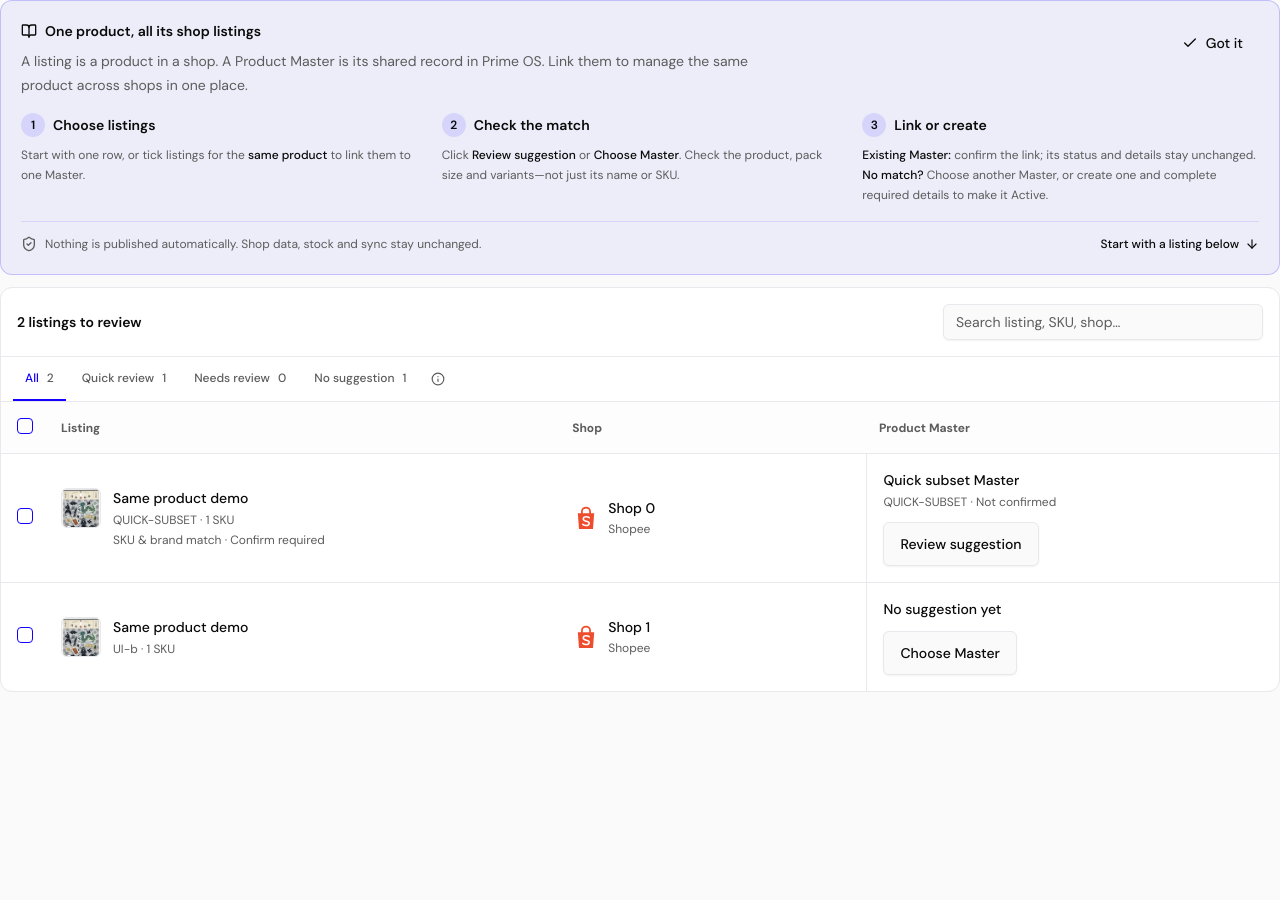
Test: Listing review drawer › keeps eligible and unmatched listings together in the explicit selection without silently confirming a subset
The width and height of the screenshot is (1280, 900).
Click the checkbox named "Select visible shop listings".
click(25, 426)  # box left=17, top=418, right=33, bottom=434
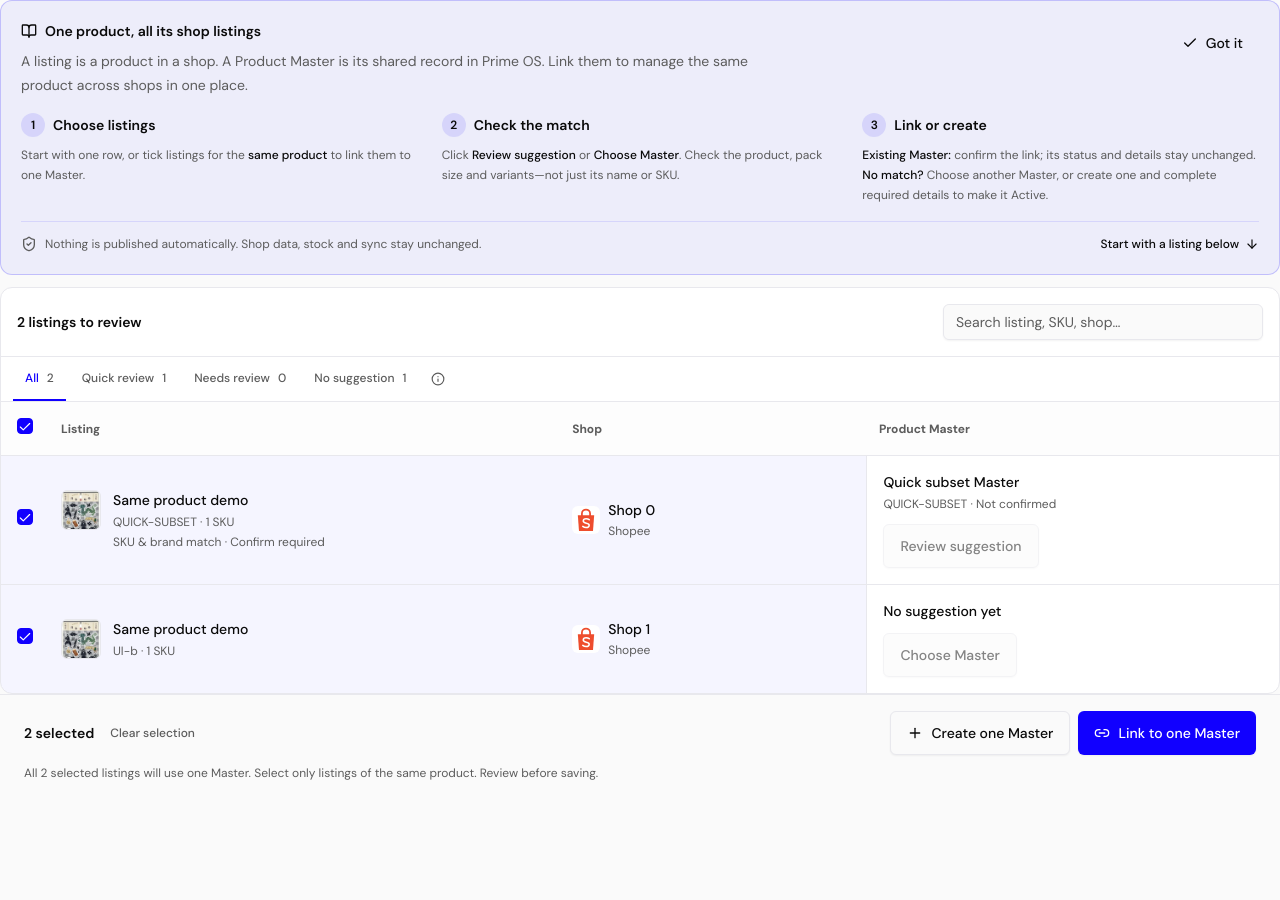
Click the button "Link to one Master".
click(1167, 733)  # box left=1078, top=711, right=1256, bottom=755
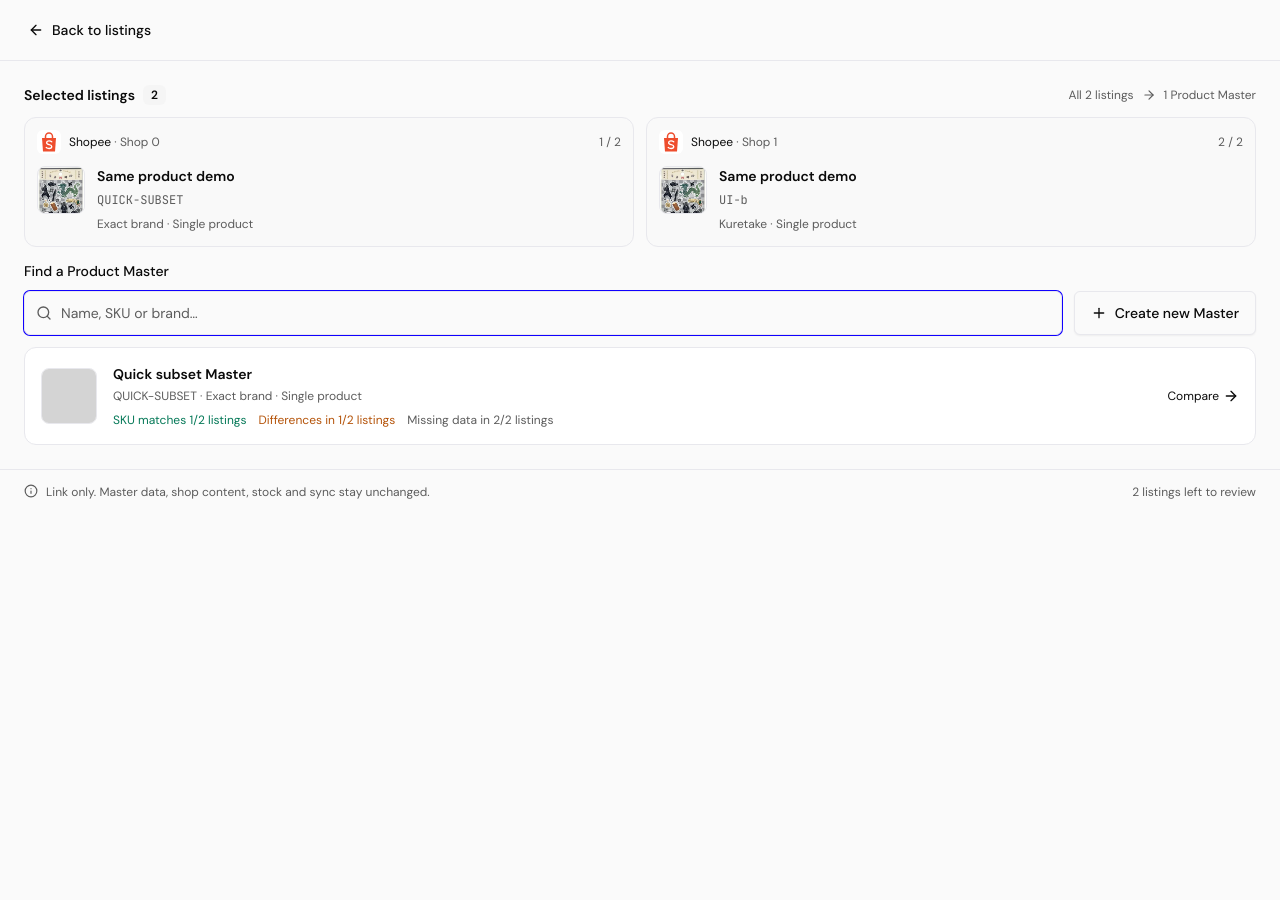
expect the element named "Find a Product Master" is shown: met, box left=0, top=0, right=1279, bottom=514
expect the element "Selected listings 2" shows "QUICK-SUBSET": met, box left=97, top=192, right=183, bottom=208
expect the element "Selected listings 2" shows "UI-b": met, box left=719, top=192, right=748, bottom=208
Click the button "Back to listings".
click(90, 30)  # box left=12, top=8, right=167, bottom=52
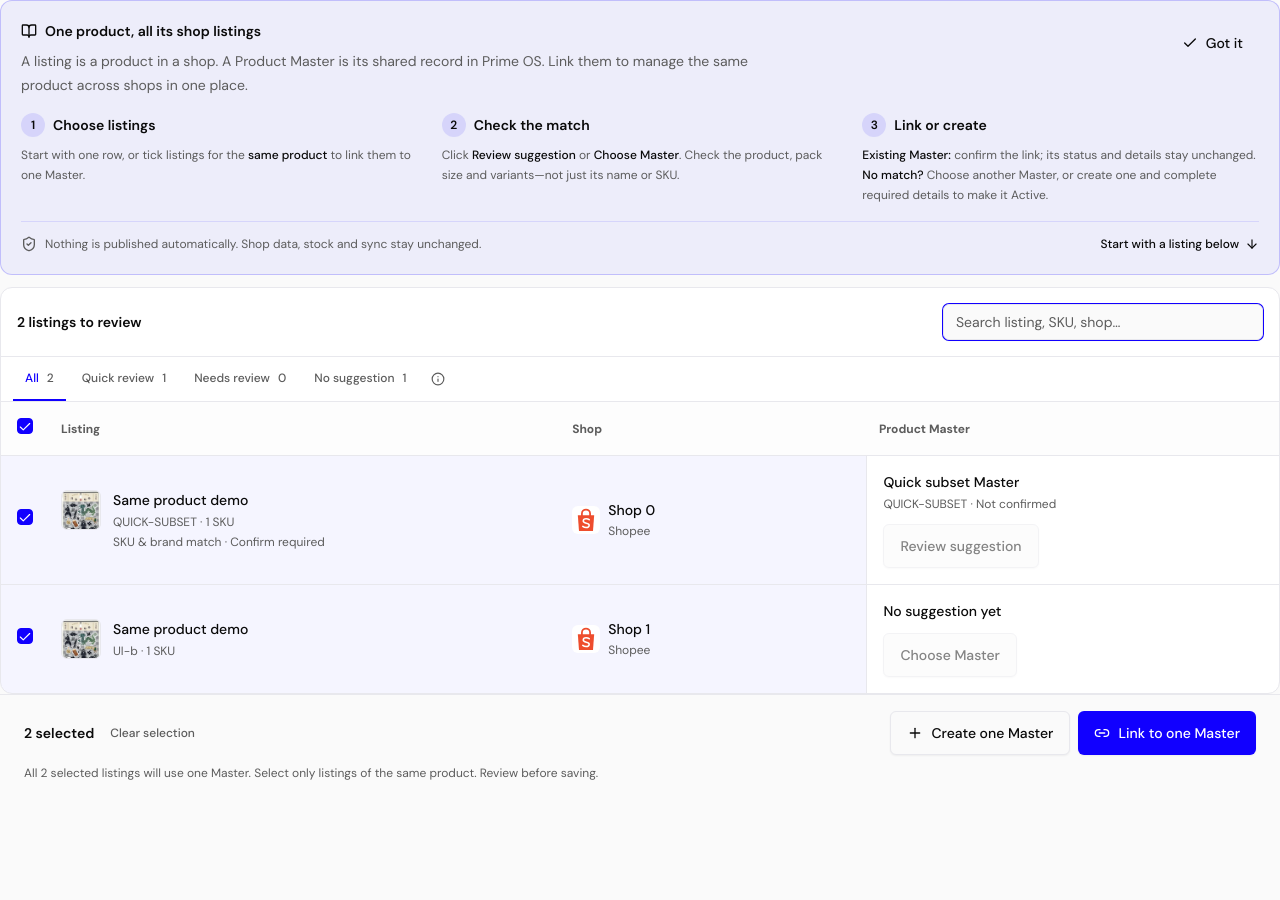
expect the text "2 selected" is shown: met, box left=24, top=723, right=94, bottom=743
